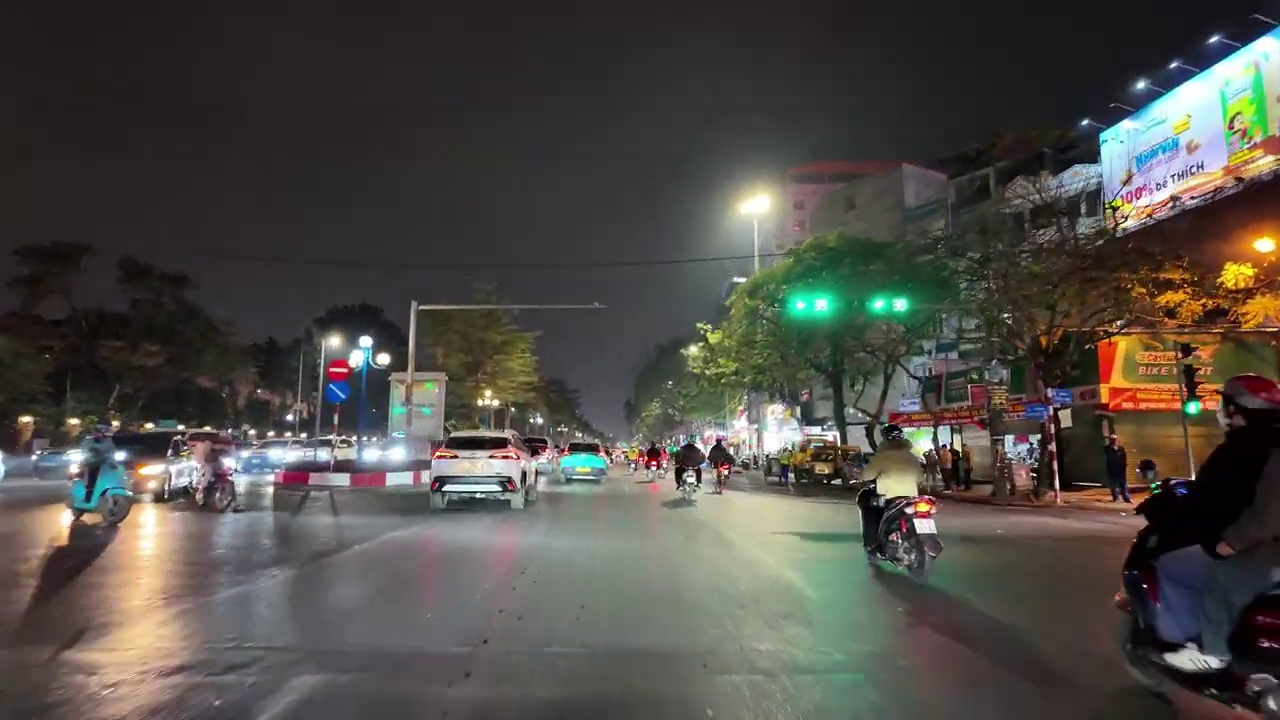acesa: (735, 187, 779, 225), (1248, 232, 1279, 258), (320, 330, 348, 357)
